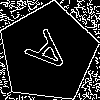A: (23, 28, 79, 84)
